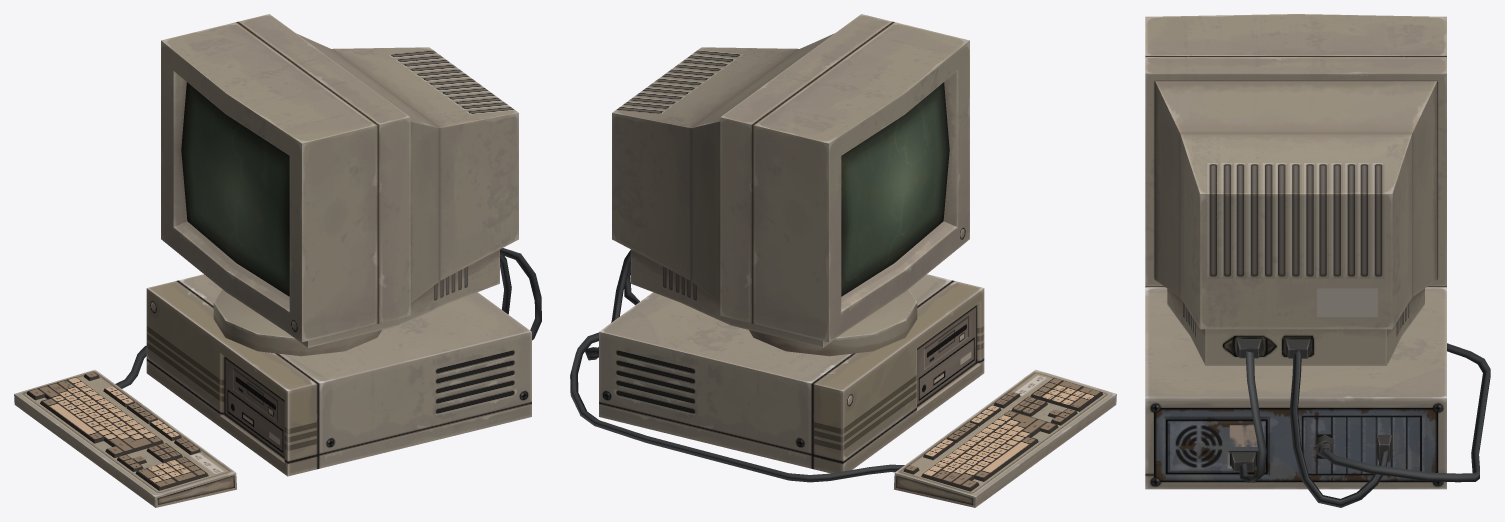
Rendered from computer01.fbx.
3 views of the same model, side by side, from view 1: azimuth 30°, elevation 25°; view 2: azimuth 150°, elevation 25°; view 3: azimuth 270°, elevation 25° (orthographic). The views are drawn at different scales.
Visible parts, largest first — view 1: computer01; view 2: computer01; view 3: computer01.
Part boxes in pixels (box(x1,y1,x2,y2)): computer01: box(14, 14, 541, 507); computer01: box(570, 14, 1116, 507); computer01: box(1145, 14, 1490, 507).
Bounding box in the file's own units: 81.05 × 58.12 × 51.5.
